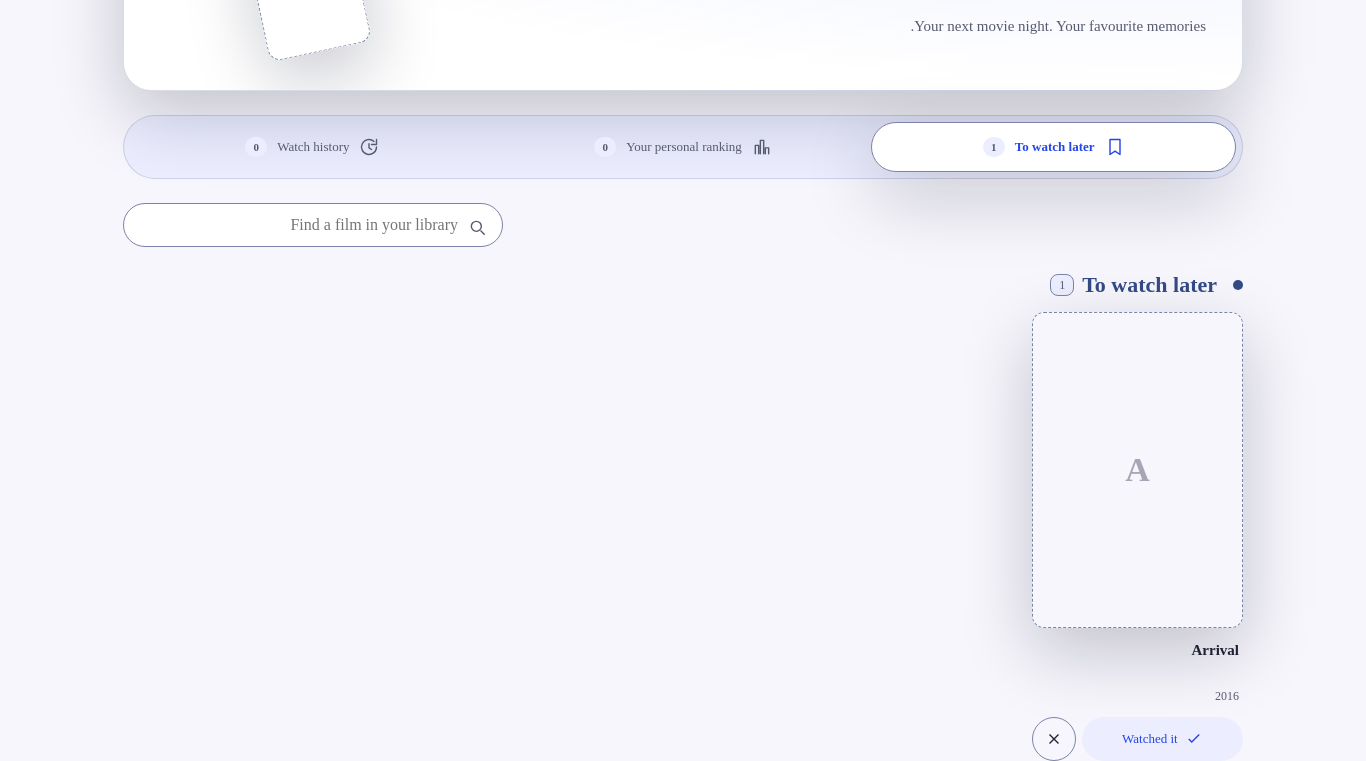
visual library navigation › moves a watched film into history in place, with its actual local watch date and visible feedback
The image size is (1366, 761).
(page scrolled)
Click the button "Watched it": [1162, 739] box [1082,717,1243,760]
(page scrolled)
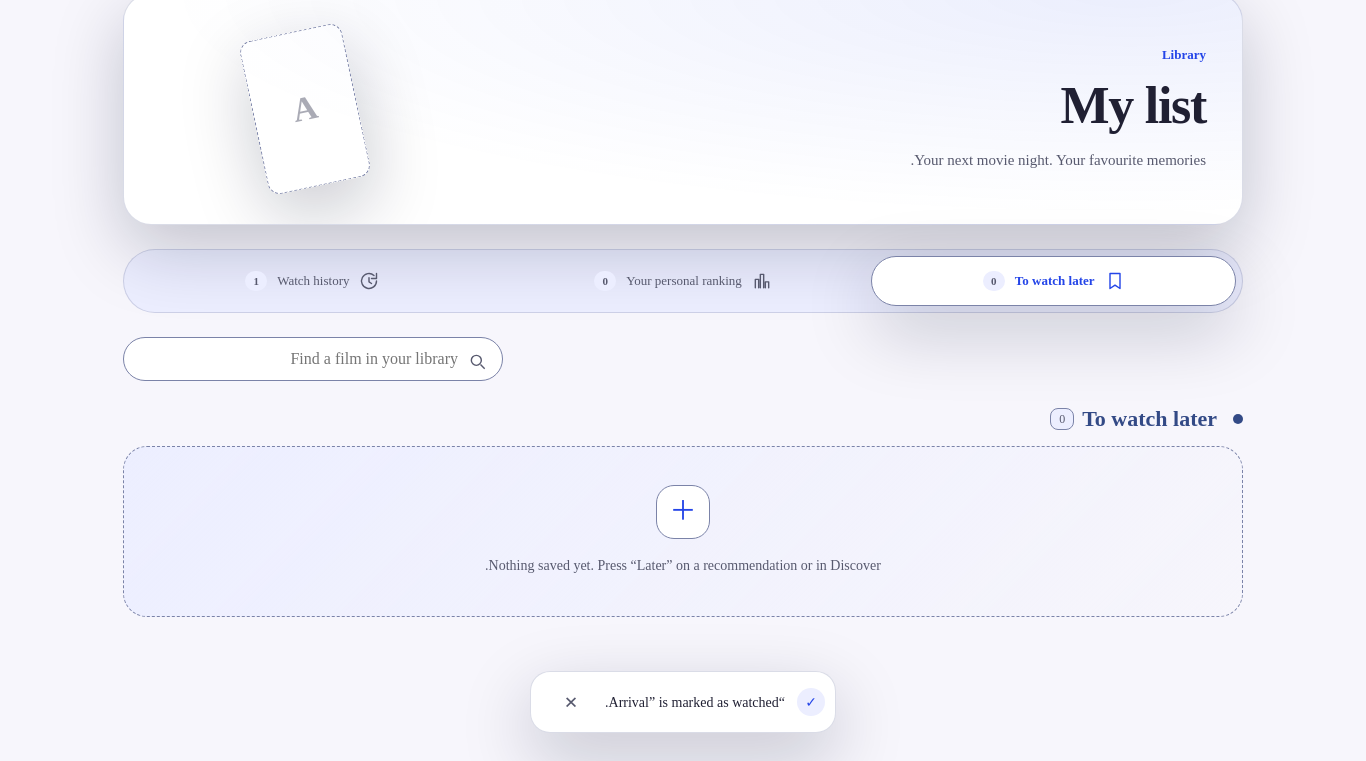
Check: the message reads "“Arrival” is marked as watched.", box [605,694,785,710]
Click the tab "Watch history 1": [312, 281] box [130,256,495,306]
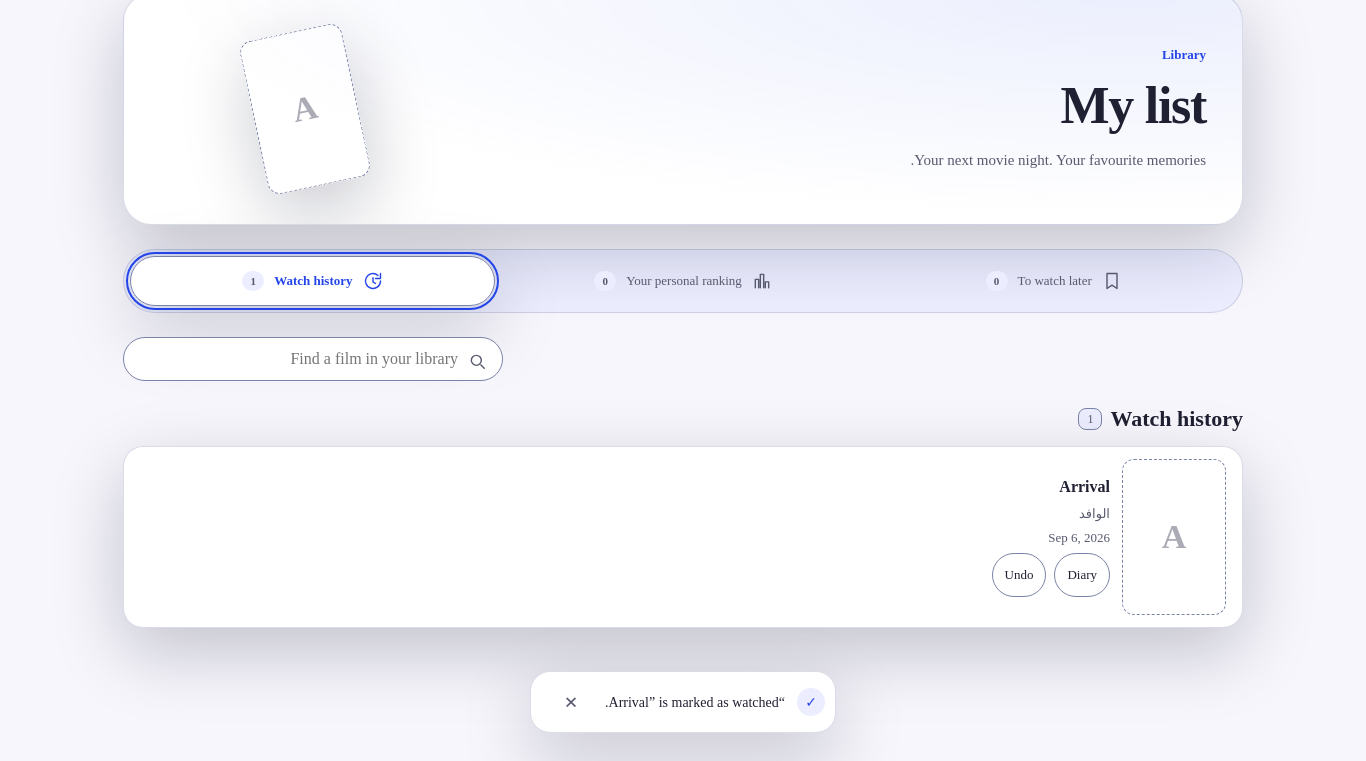
Check: the heading "Arrival" is shown, box [1059,478,1110,495]
Check: the button "Diary" is shown, box [1054,553,1110,597]
